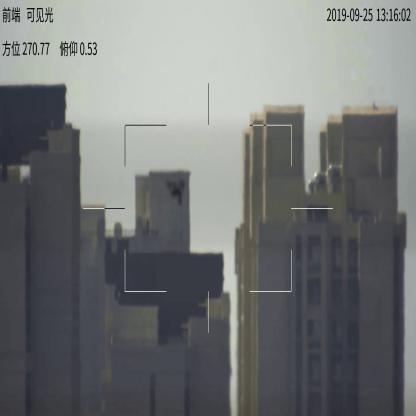uav: (165, 176, 186, 204)
